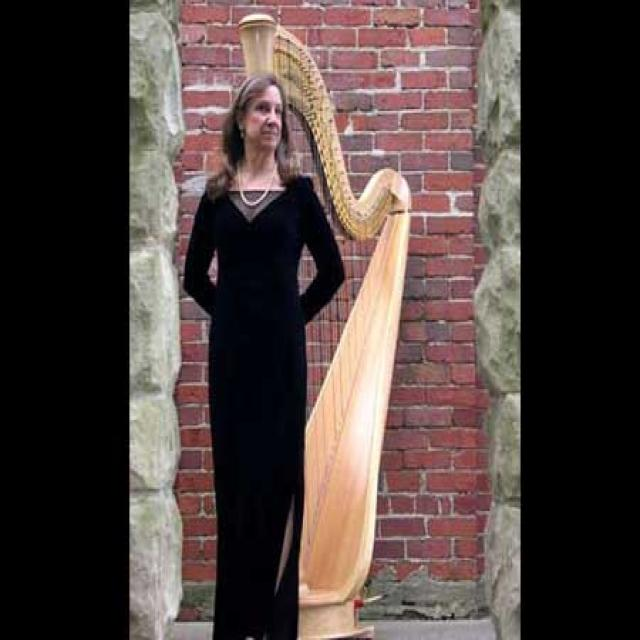harp: (235, 9, 419, 630)
